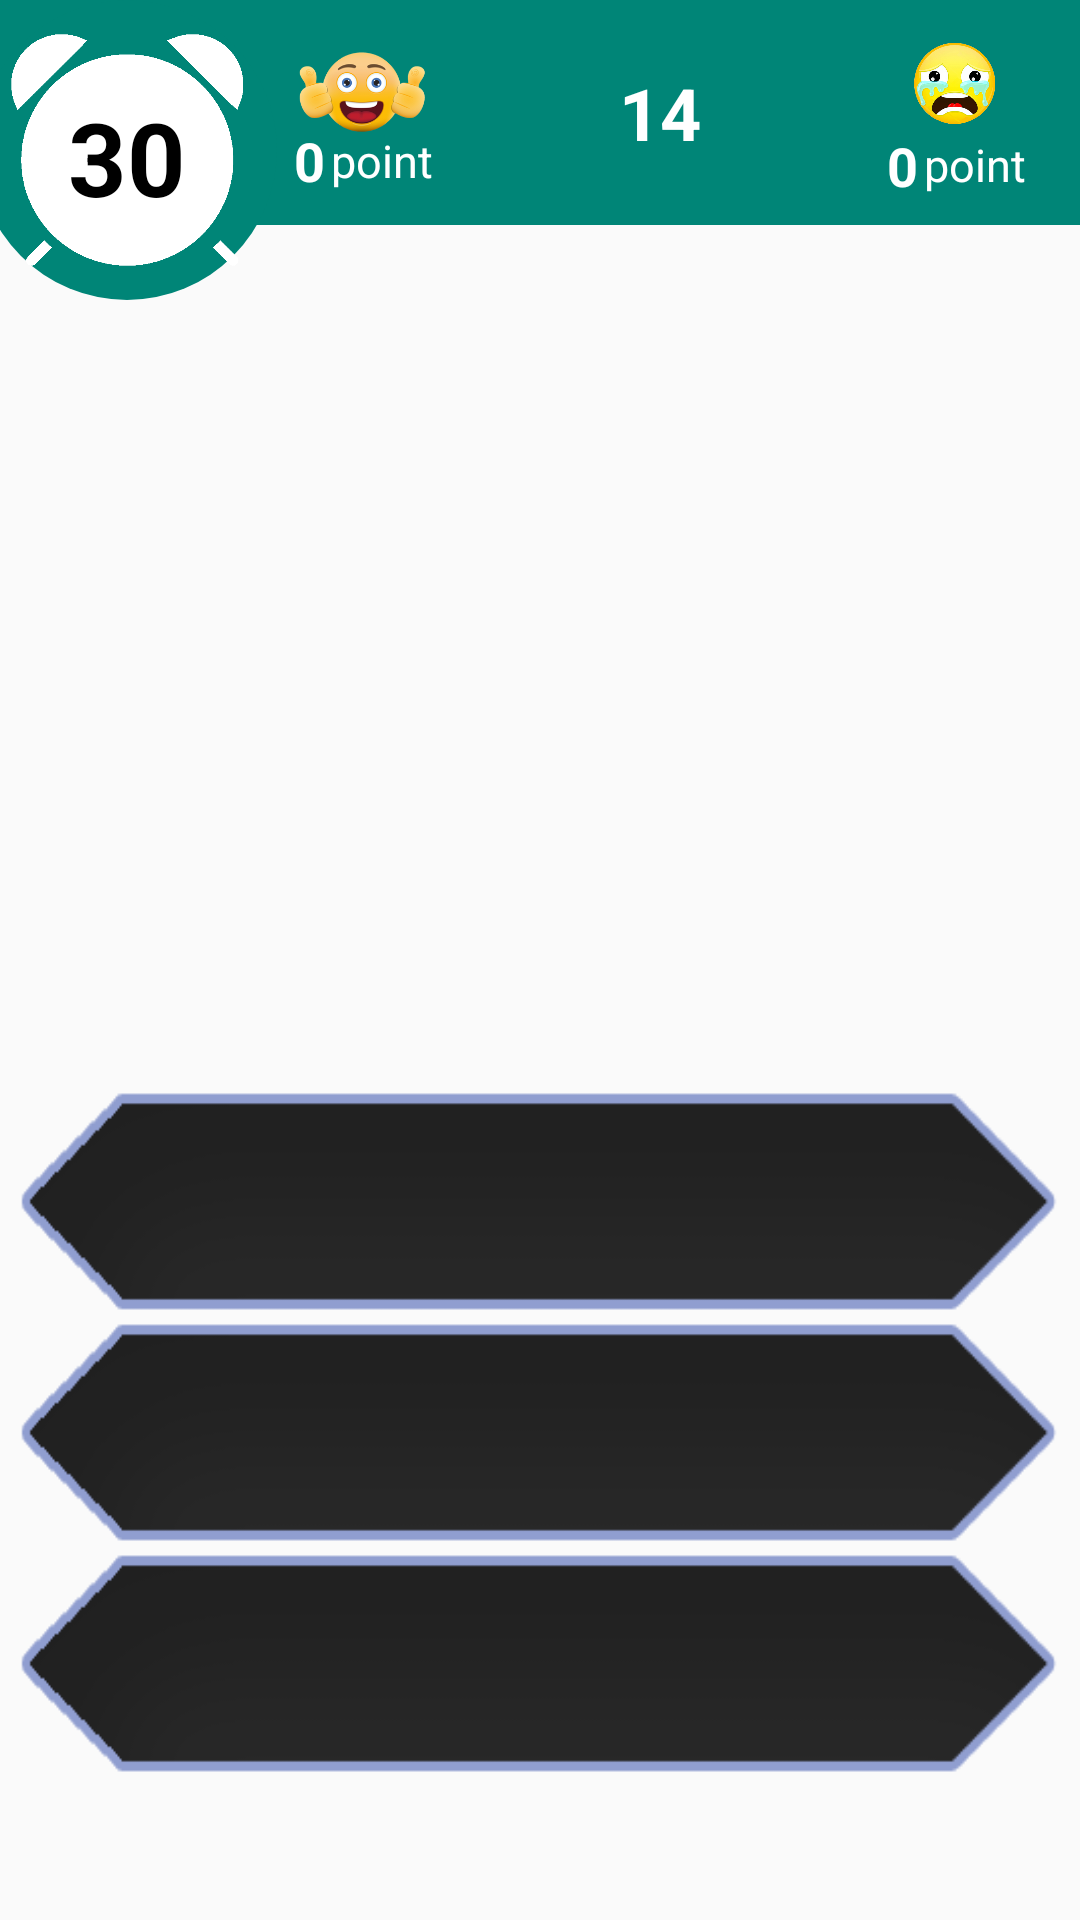

Where to tap for icons on this 1080px×1920px app screen, as point (x, y):
joie: point (362, 101)
triste: point (954, 83)
